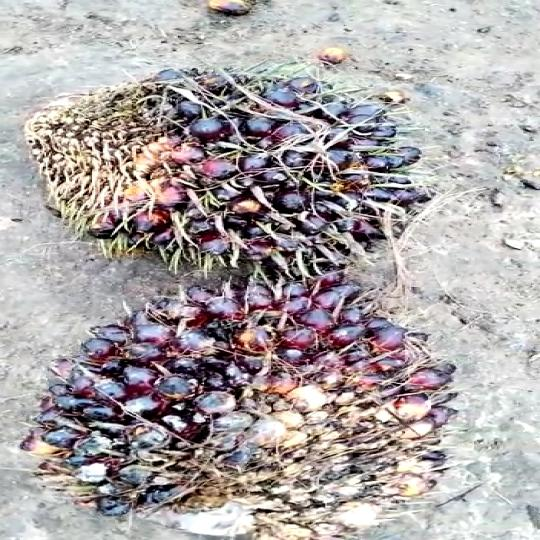kurang masak: (23, 289, 498, 540), (16, 46, 424, 297)
